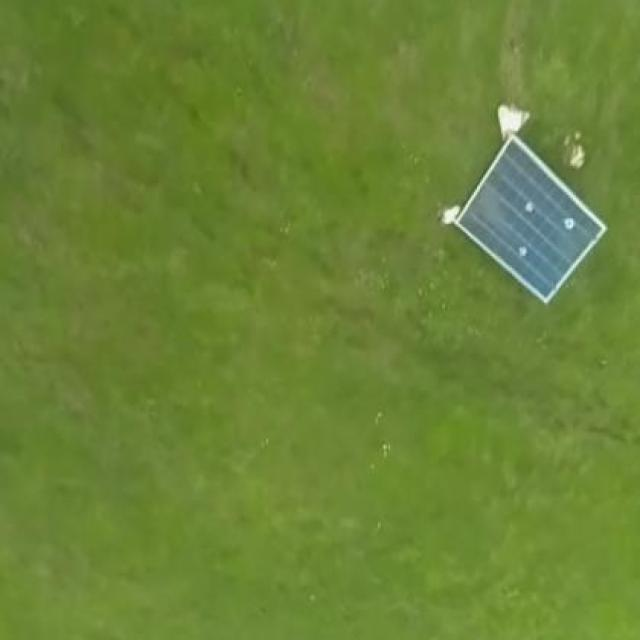soiled: (450, 130, 612, 310)
